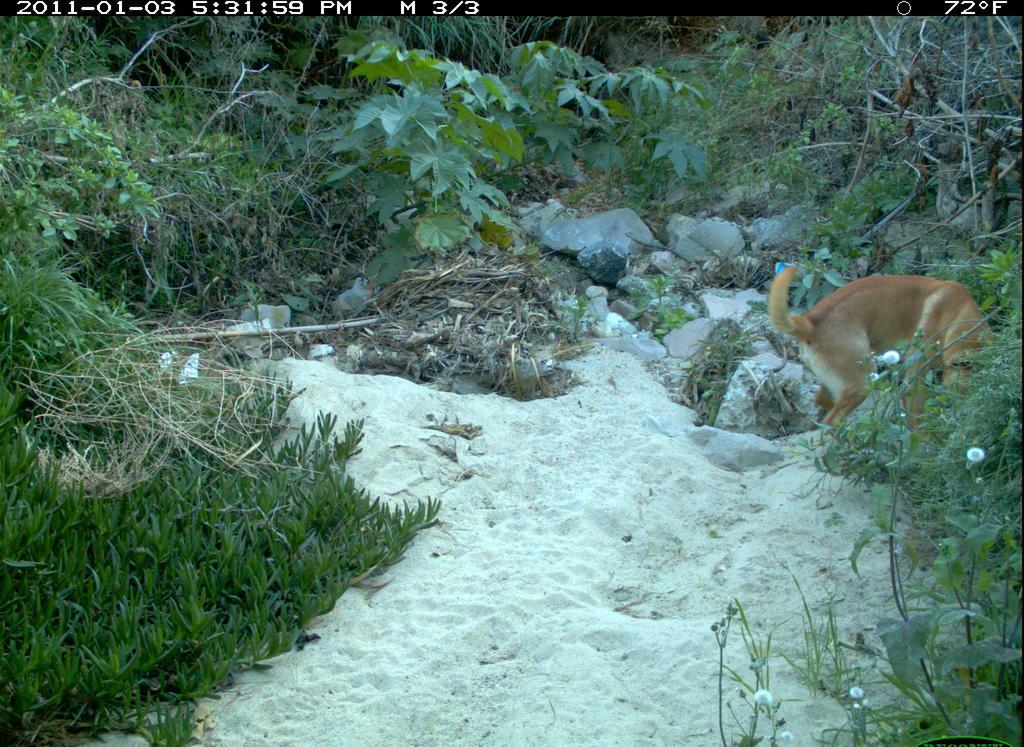dog: (763, 244, 1012, 449)
